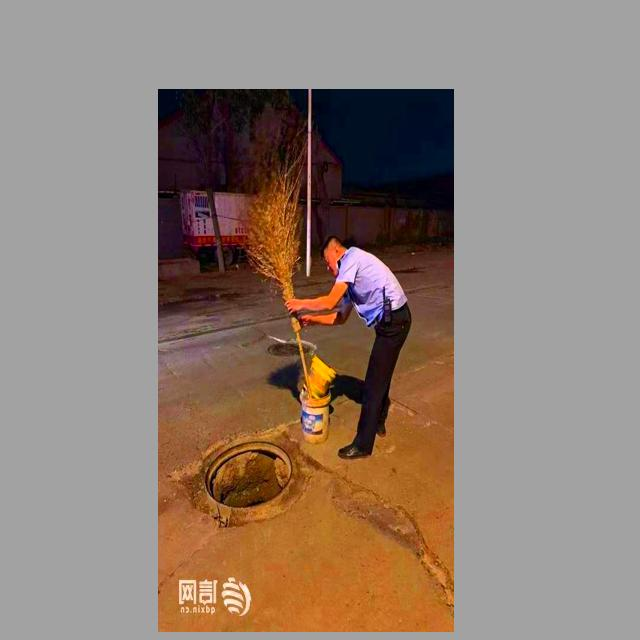lose: (196, 424, 306, 529)
